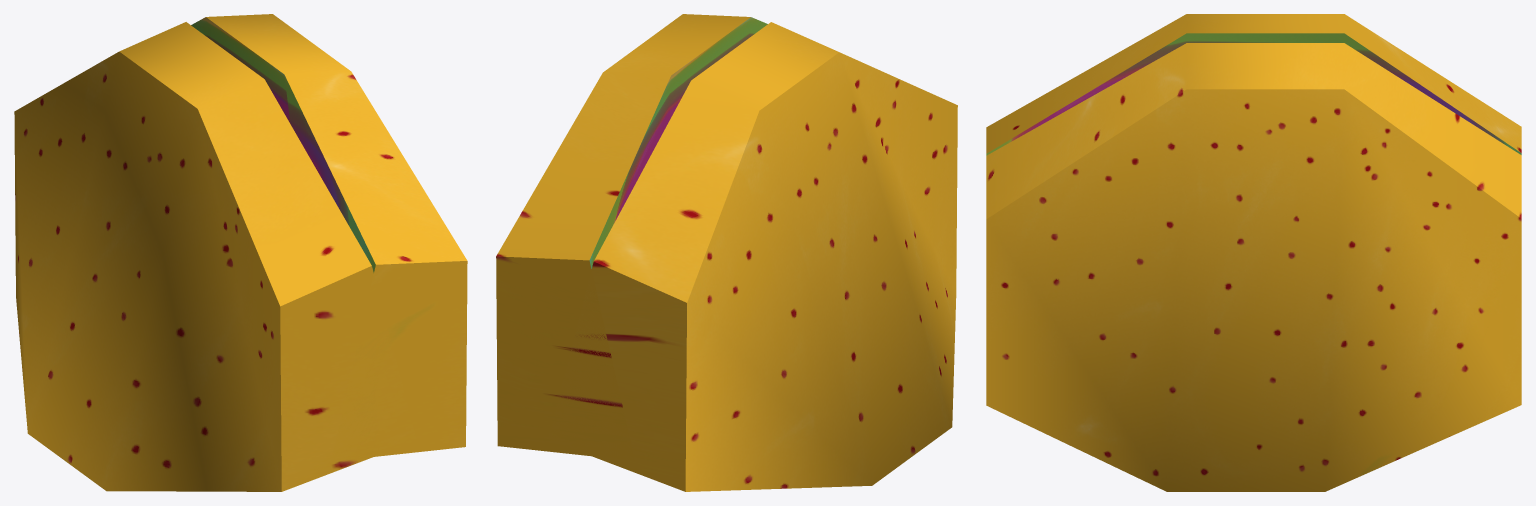
File: shadowflower.fbx
3 renders of one model, left to right at view 1: azimuth 30°, elevation 25°; view 2: azimuth 150°, elevation 25°; view 3: azimuth 270°, elevation 25°, orthographic.
Visible parts, largest first — view 1: pCube7; view 2: pCube7; view 3: pCube7.
Part boxes in pixels (x1=…): pCube7: x1=14, y1=14, x2=467, y2=491; pCube7: x1=496, y1=14, x2=957, y2=491; pCube7: x1=986, y1=14, x2=1521, y2=491.
Size of the model in its own units: 2.62 by 2.56 by 3.39.
1 material, 1 textured.
